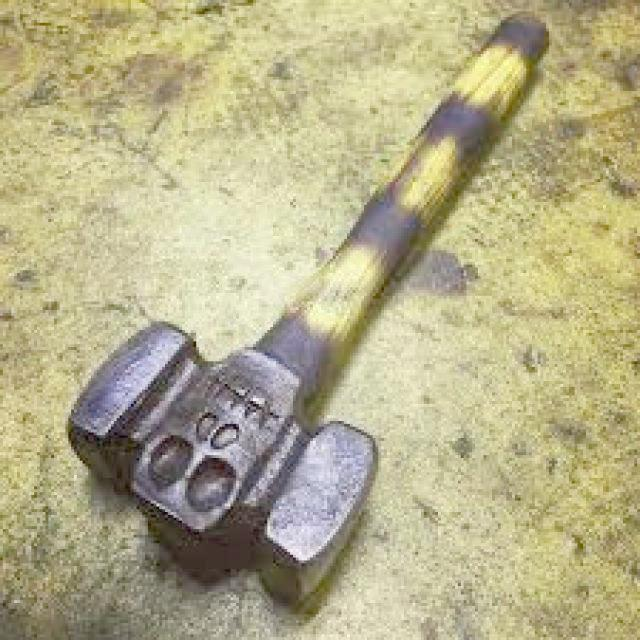hammer: (56, 6, 574, 614)
